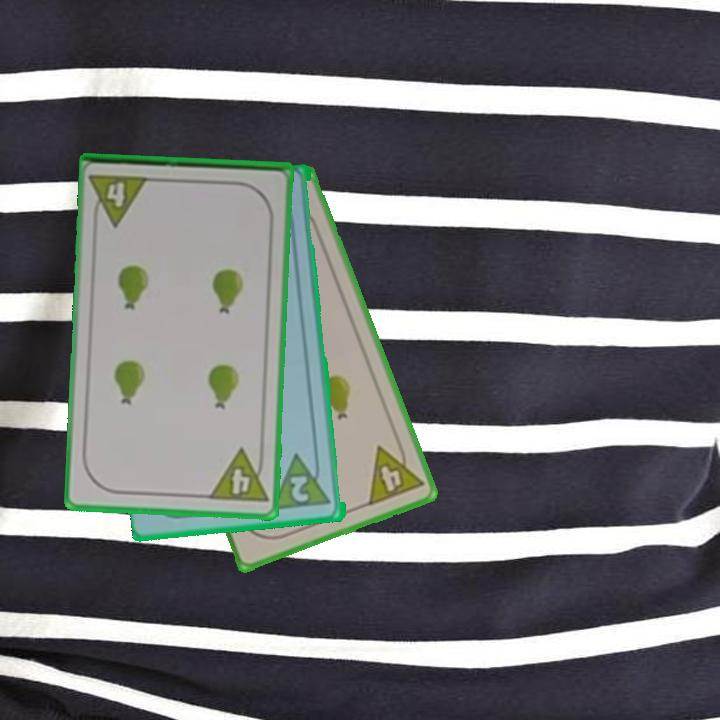2p: (287, 473, 313, 506)
4p: (364, 435, 427, 509), (205, 445, 271, 506), (87, 170, 153, 229)
